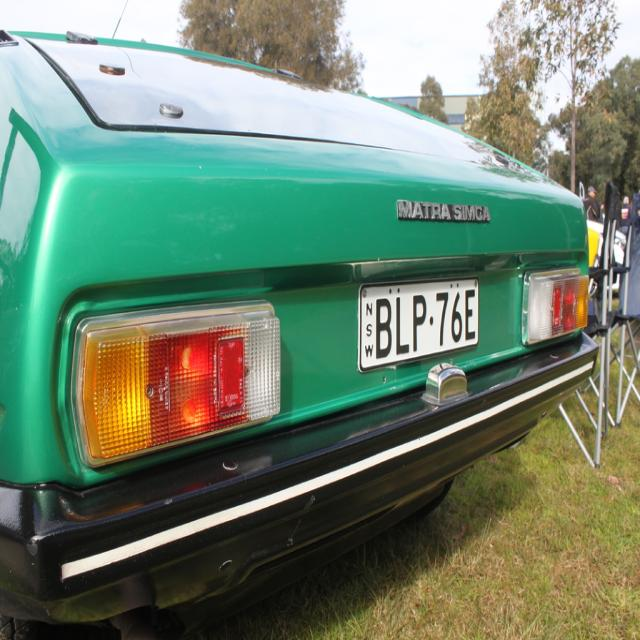car: (0, 24, 611, 623)
